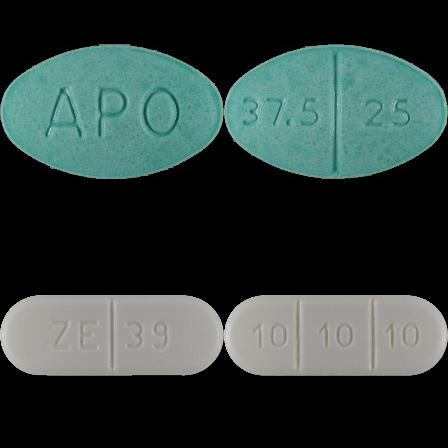61786-115: (0, 0, 224, 224)
